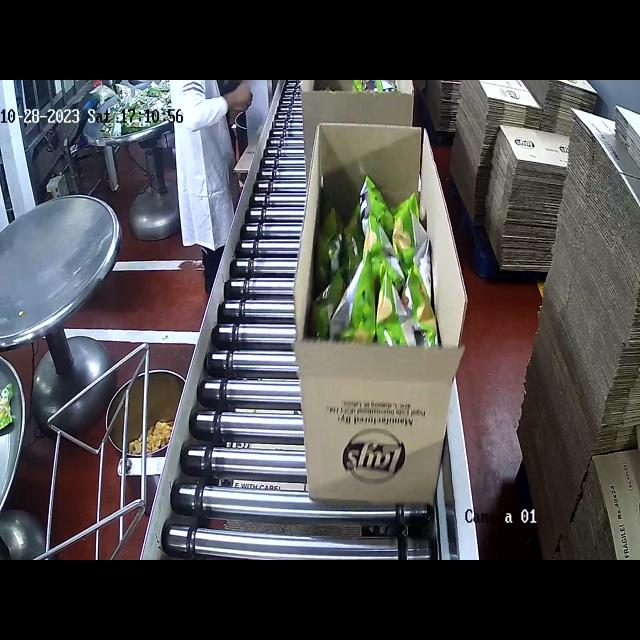yogurt: (313, 172, 436, 351)
